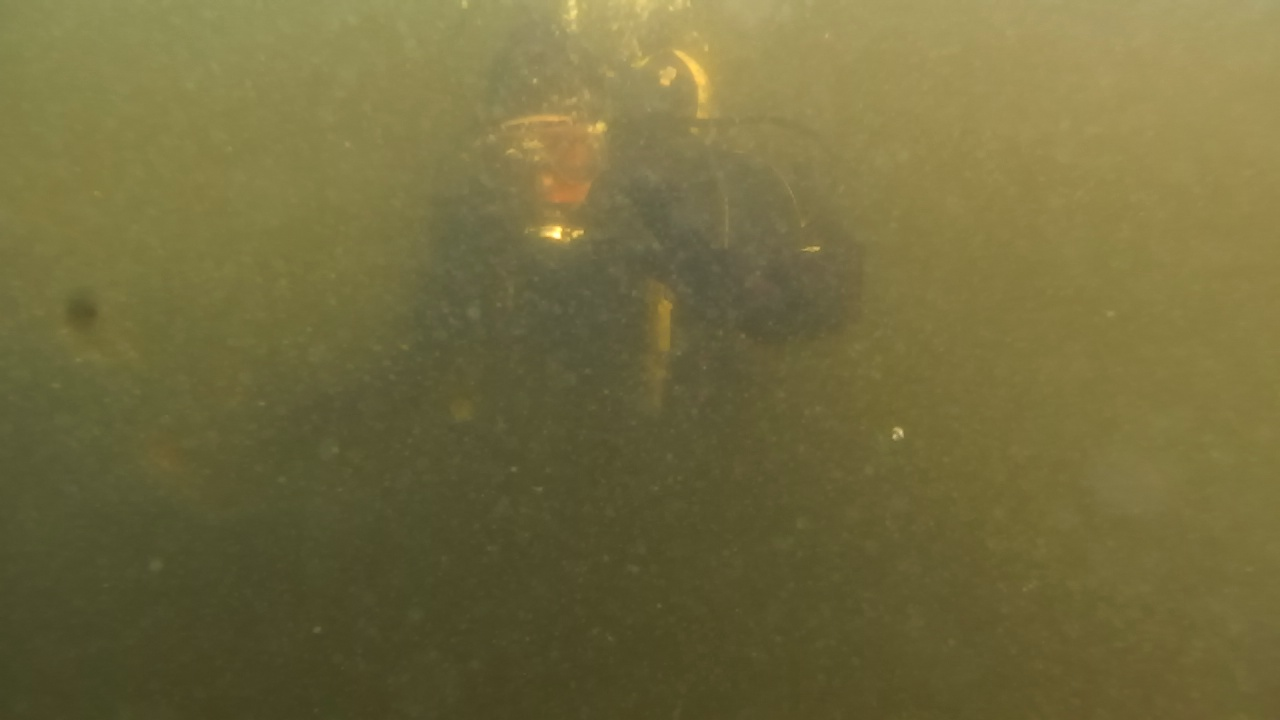Diver: (356, 6, 882, 406)
Hand: (604, 122, 812, 300)
Head: (472, 28, 638, 278)
